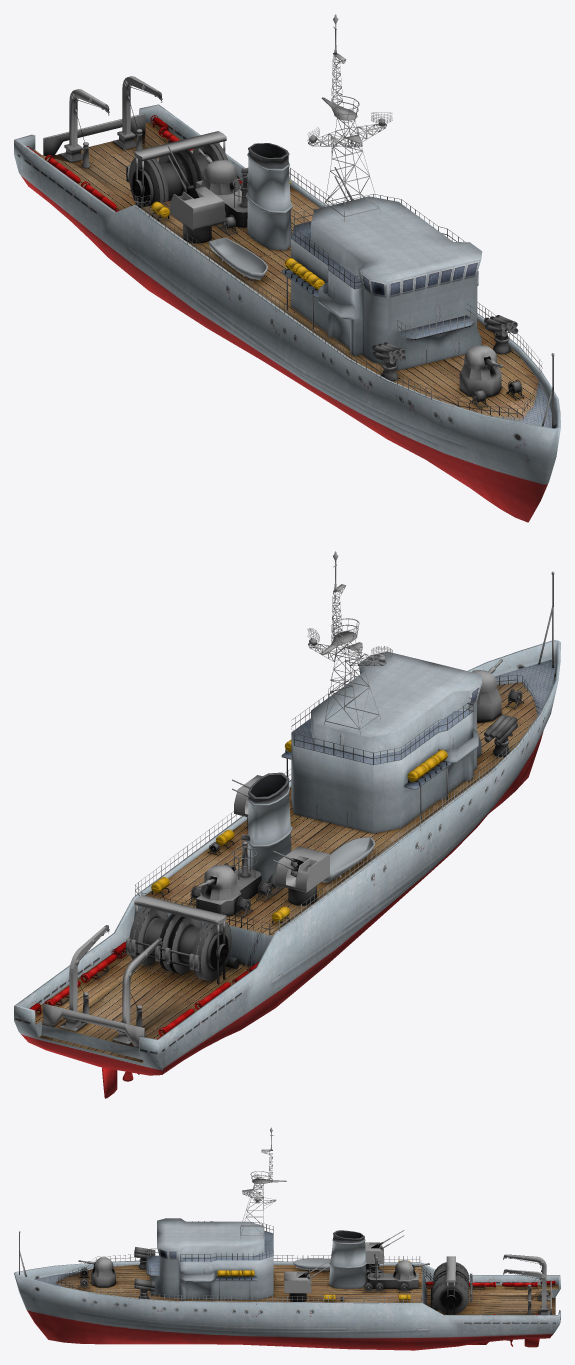
Rendered from Minesweeper.fbx.
The picture shows the model from 3 angles, top to bottom: view 1: azimuth 30°, elevation 25°; view 2: azimuth 150°, elevation 25°; view 3: azimuth 270°, elevation 25°; orthographic projection. The views are drawn at different scales.
Visible parts, largest first — view 1: Mesh; view 2: Mesh; view 3: Mesh.
Boxes of the visible parts, x1,y1,x2,y2 form: Mesh: (14, 14, 560, 522); Mesh: (14, 551, 560, 1098); Mesh: (14, 1127, 560, 1350).
Size of the model in its own units: 21.23 by 53.07 by 120.
